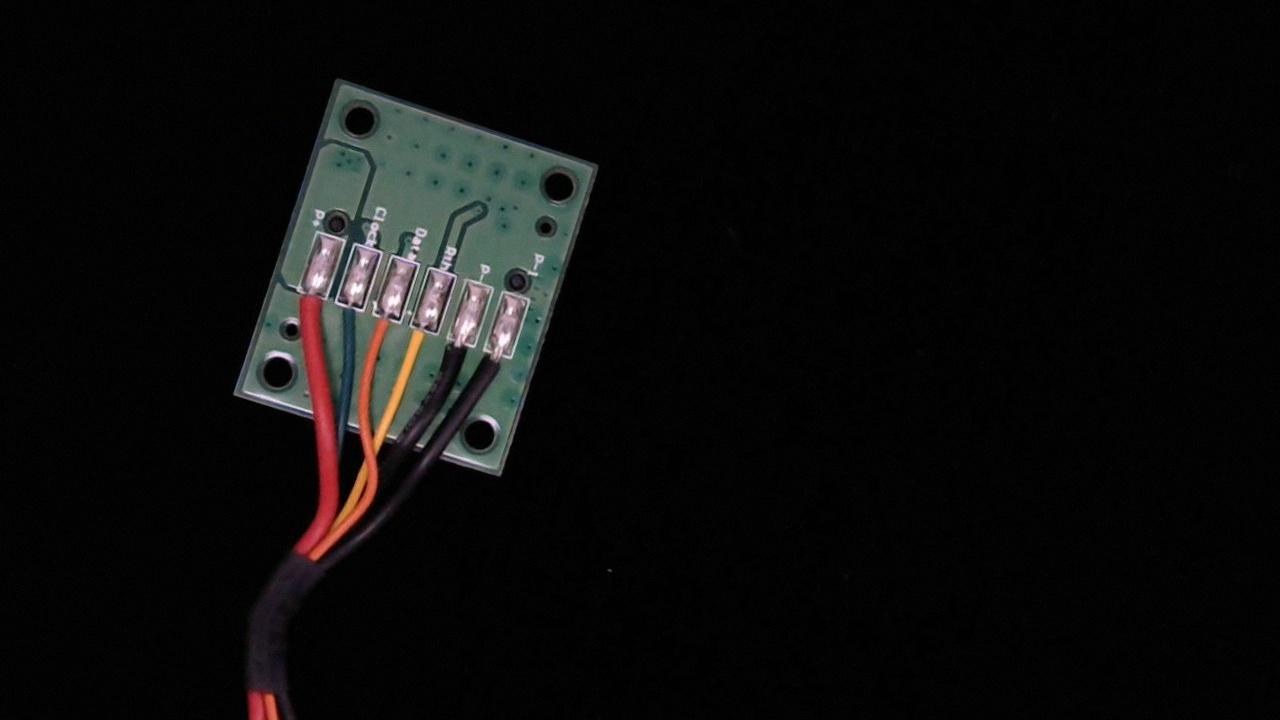Black: (431, 321, 477, 390)
Black1: (471, 334, 515, 400)
Green: (322, 287, 370, 353)
Orange: (356, 297, 406, 365)
Red: (284, 276, 330, 346)
Yellow: (392, 308, 442, 384)
